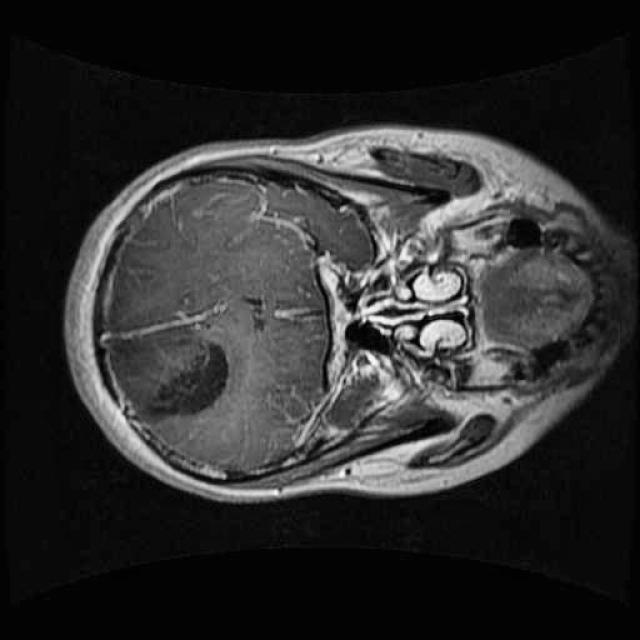Non-Tumor: (99, 314, 244, 440)
